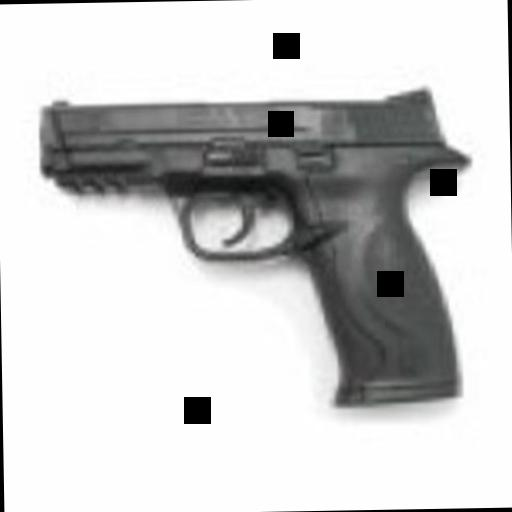Handgun: (34, 88, 478, 408)
